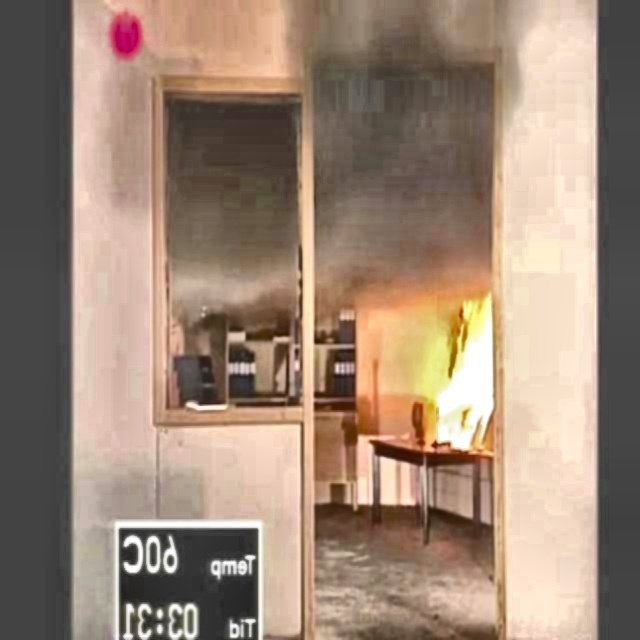fire: (411, 296, 493, 462)
